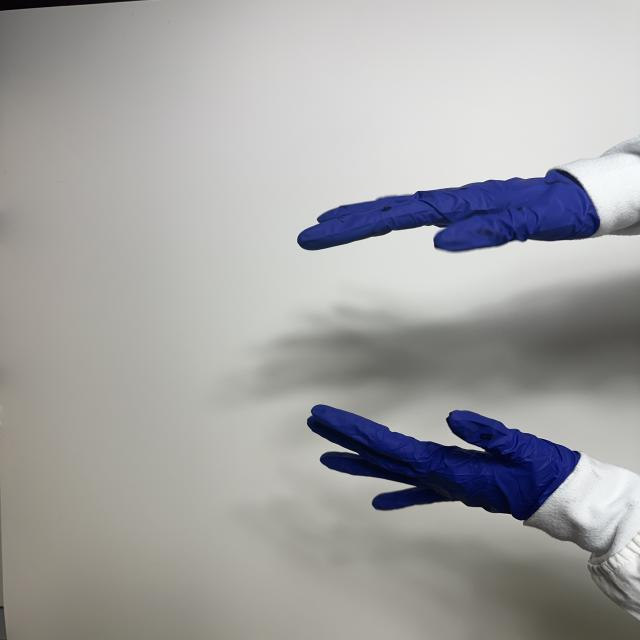gloves_contaminated: (302, 394, 576, 531), (296, 174, 606, 256)
